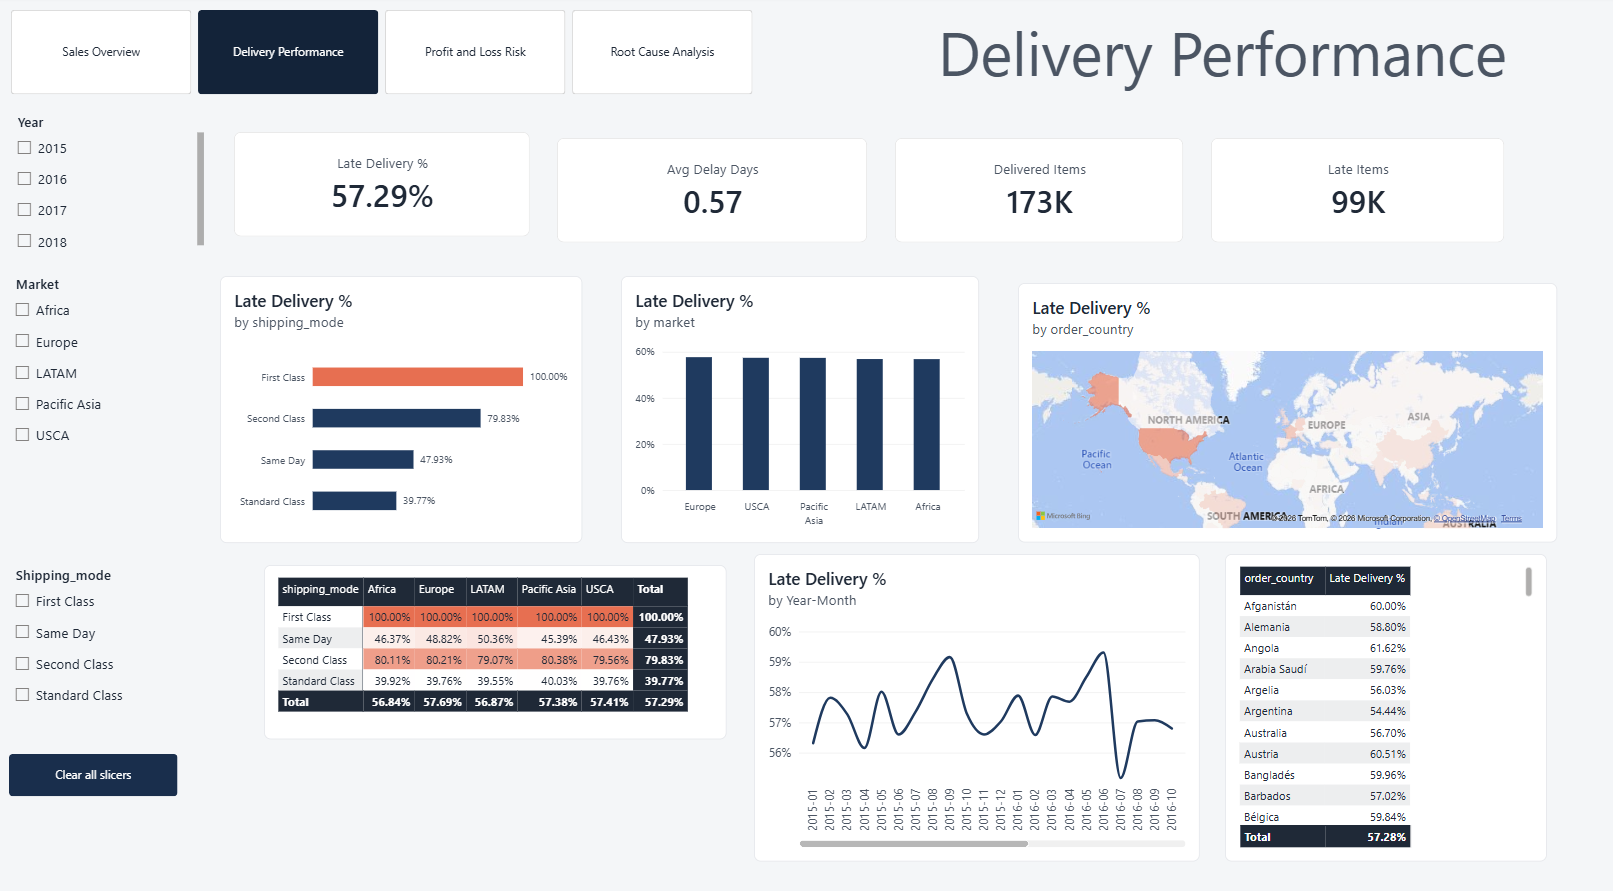

The page's visual inventory and layout, read from the dashboard file:
{"tool":"powerbi","page":{"name":"Delivery Performance","canvas":[1920,1080],"ordinal":1},"visuals":[{"type":"cardVisual","fields":{"Data":["_Measures.Late Delivery %"]},"box":[279.5,161.7,351.9,124.2],"z":0},{"type":"cardVisual","fields":{"Data":["_Measures.Avg Delay Days"]},"box":[662.4,168.2,368.7,124.2],"z":1000},{"type":"cardVisual","fields":{"Data":["_Measures.Delivered Items"]},"box":[1063.5,168.2,342.9,124.2],"z":2000},{"type":"cardVisual","fields":{"Data":["_Measures.Late Items"]},"box":[1438.7,168.2,348,124.2],"z":3000},{"type":"clusteredBarChart","fields":{"Category":["dataco_orders.shipping_mode"],"Y":["_Measures.Late Delivery %"]},"box":[262.2,331.9,429.6,317],"z":4000},{"type":"clusteredColumnChart","fields":{"Category":["dataco_orders.market"],"Y":["_Measures.Late Delivery %"]},"box":[737.8,331.9,425.2,317],"z":5000},{"type":"filledMap","fields":{"Category":["dataco_orders.order_country"]},"box":[1208.9,340.7,640,308.1],"z":6000},{"type":"pivotTable","fields":{"Columns":["dataco_orders.market"],"Rows":["dataco_orders.shipping_mode"],"Values":["_Measures.Late Delivery %"]},"box":[314.4,675.4,548.6,207],"z":7000},{"type":"lineChart","fields":{"Category":["Date.Year-Month"],"Y":["_Measures.Late Delivery %"]},"box":[896.6,662.4,529.2,364.9],"z":8000},{"type":"tableEx","fields":{"Values":["dataco_orders.order_country","_Measures.Late Delivery %"]},"box":[1455.5,662.4,381.7,364.9],"z":9000},{"type":"slicer","fields":{"Values":["Date.Year"]},"box":[14.2,138.4,229,169.5],"z":10000},{"type":"slicer","fields":{"Values":["dataco_orders.market"]},"box":[11.6,331.2,230,359],"z":11000},{"type":"slicer","fields":{"Values":["dataco_orders.shipping_mode"]},"box":[11.4,676,240.2,206.3],"z":13000},{"type":"pageNavigator","box":[14.7,16.2,881.2,100.2],"z":14000},{"type":"actionButton","box":[11.4,899.6,200,50],"z":14001},{"type":"textbox","box":[1018.2,16.8,866.8,112.6],"z":14002}]}

Visuals, with their boxes in screenshot pixels (x1, y1, x2, y2), scaled from the page's 1920x1080 canvas onto the 1613x891 screenshot:
cardVisual - _Measures.Late Delivery %: 235:133:530:236
cardVisual - _Measures.Avg Delay Days: 556:139:866:241
cardVisual - _Measures.Delivered Items: 893:139:1182:241
cardVisual - _Measures.Late Items: 1209:139:1501:241
clusteredBarChart - dataco_orders.shipping_mode x _Measures.Late Delivery %: 220:274:581:535
clusteredColumnChart - dataco_orders.market x _Measures.Late Delivery %: 620:274:977:535
filledMap - dataco_orders.order_country: 1016:281:1553:535
pivotTable - dataco_orders.market x dataco_orders.shipping_mode: 264:557:725:728
lineChart - Date.Year-Month x _Measures.Late Delivery %: 753:546:1198:848
tableEx - dataco_orders.order_country x _Measures.Late Delivery %: 1223:546:1543:848
slicer - Date.Year: 12:114:204:254
slicer - dataco_orders.market: 10:273:203:569
slicer - dataco_orders.shipping_mode: 10:558:211:728
pageNavigator: 12:13:753:96
actionButton: 10:742:178:783
textbox: 855:14:1584:107
